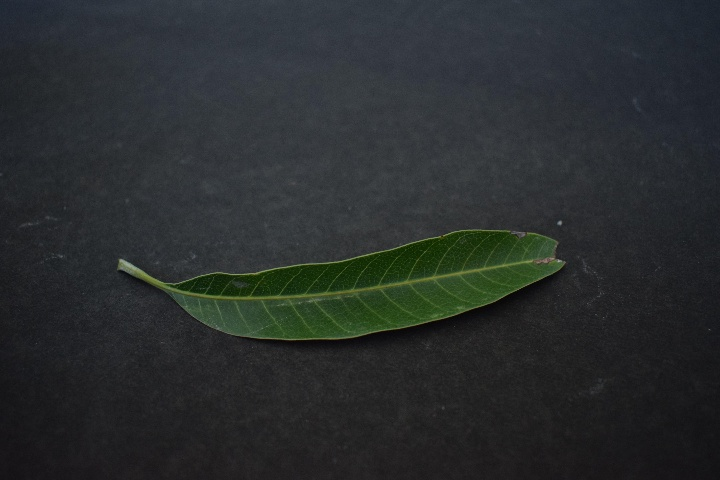healthy: (173, 223, 567, 346)
